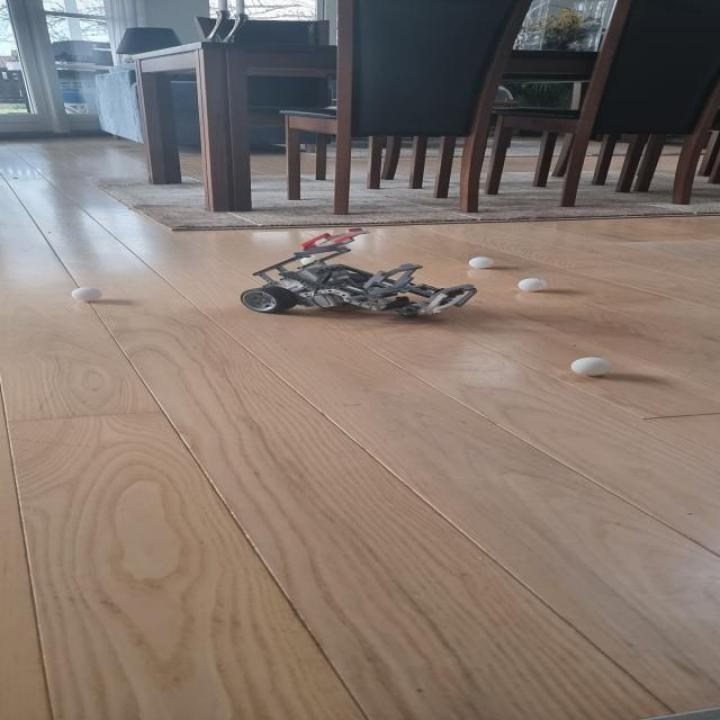robot: (239, 227, 478, 316)
white: (570, 356, 614, 375), (70, 288, 103, 302), (518, 278, 546, 291), (468, 257, 494, 268)
